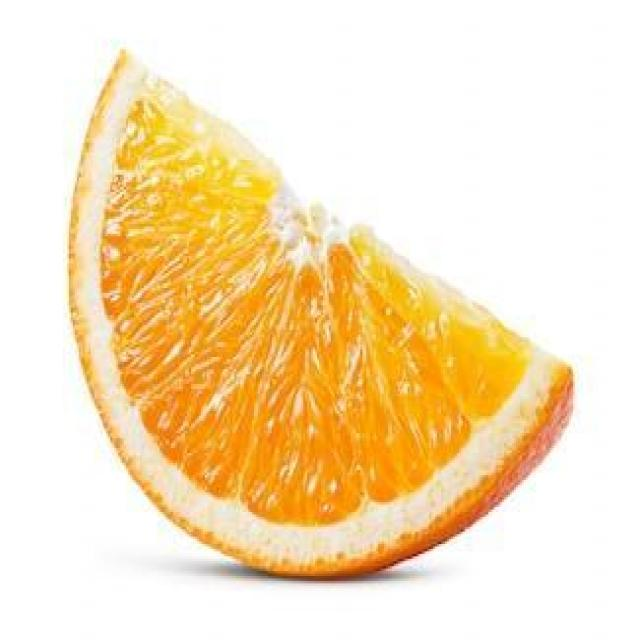orange: (61, 44, 581, 584)
